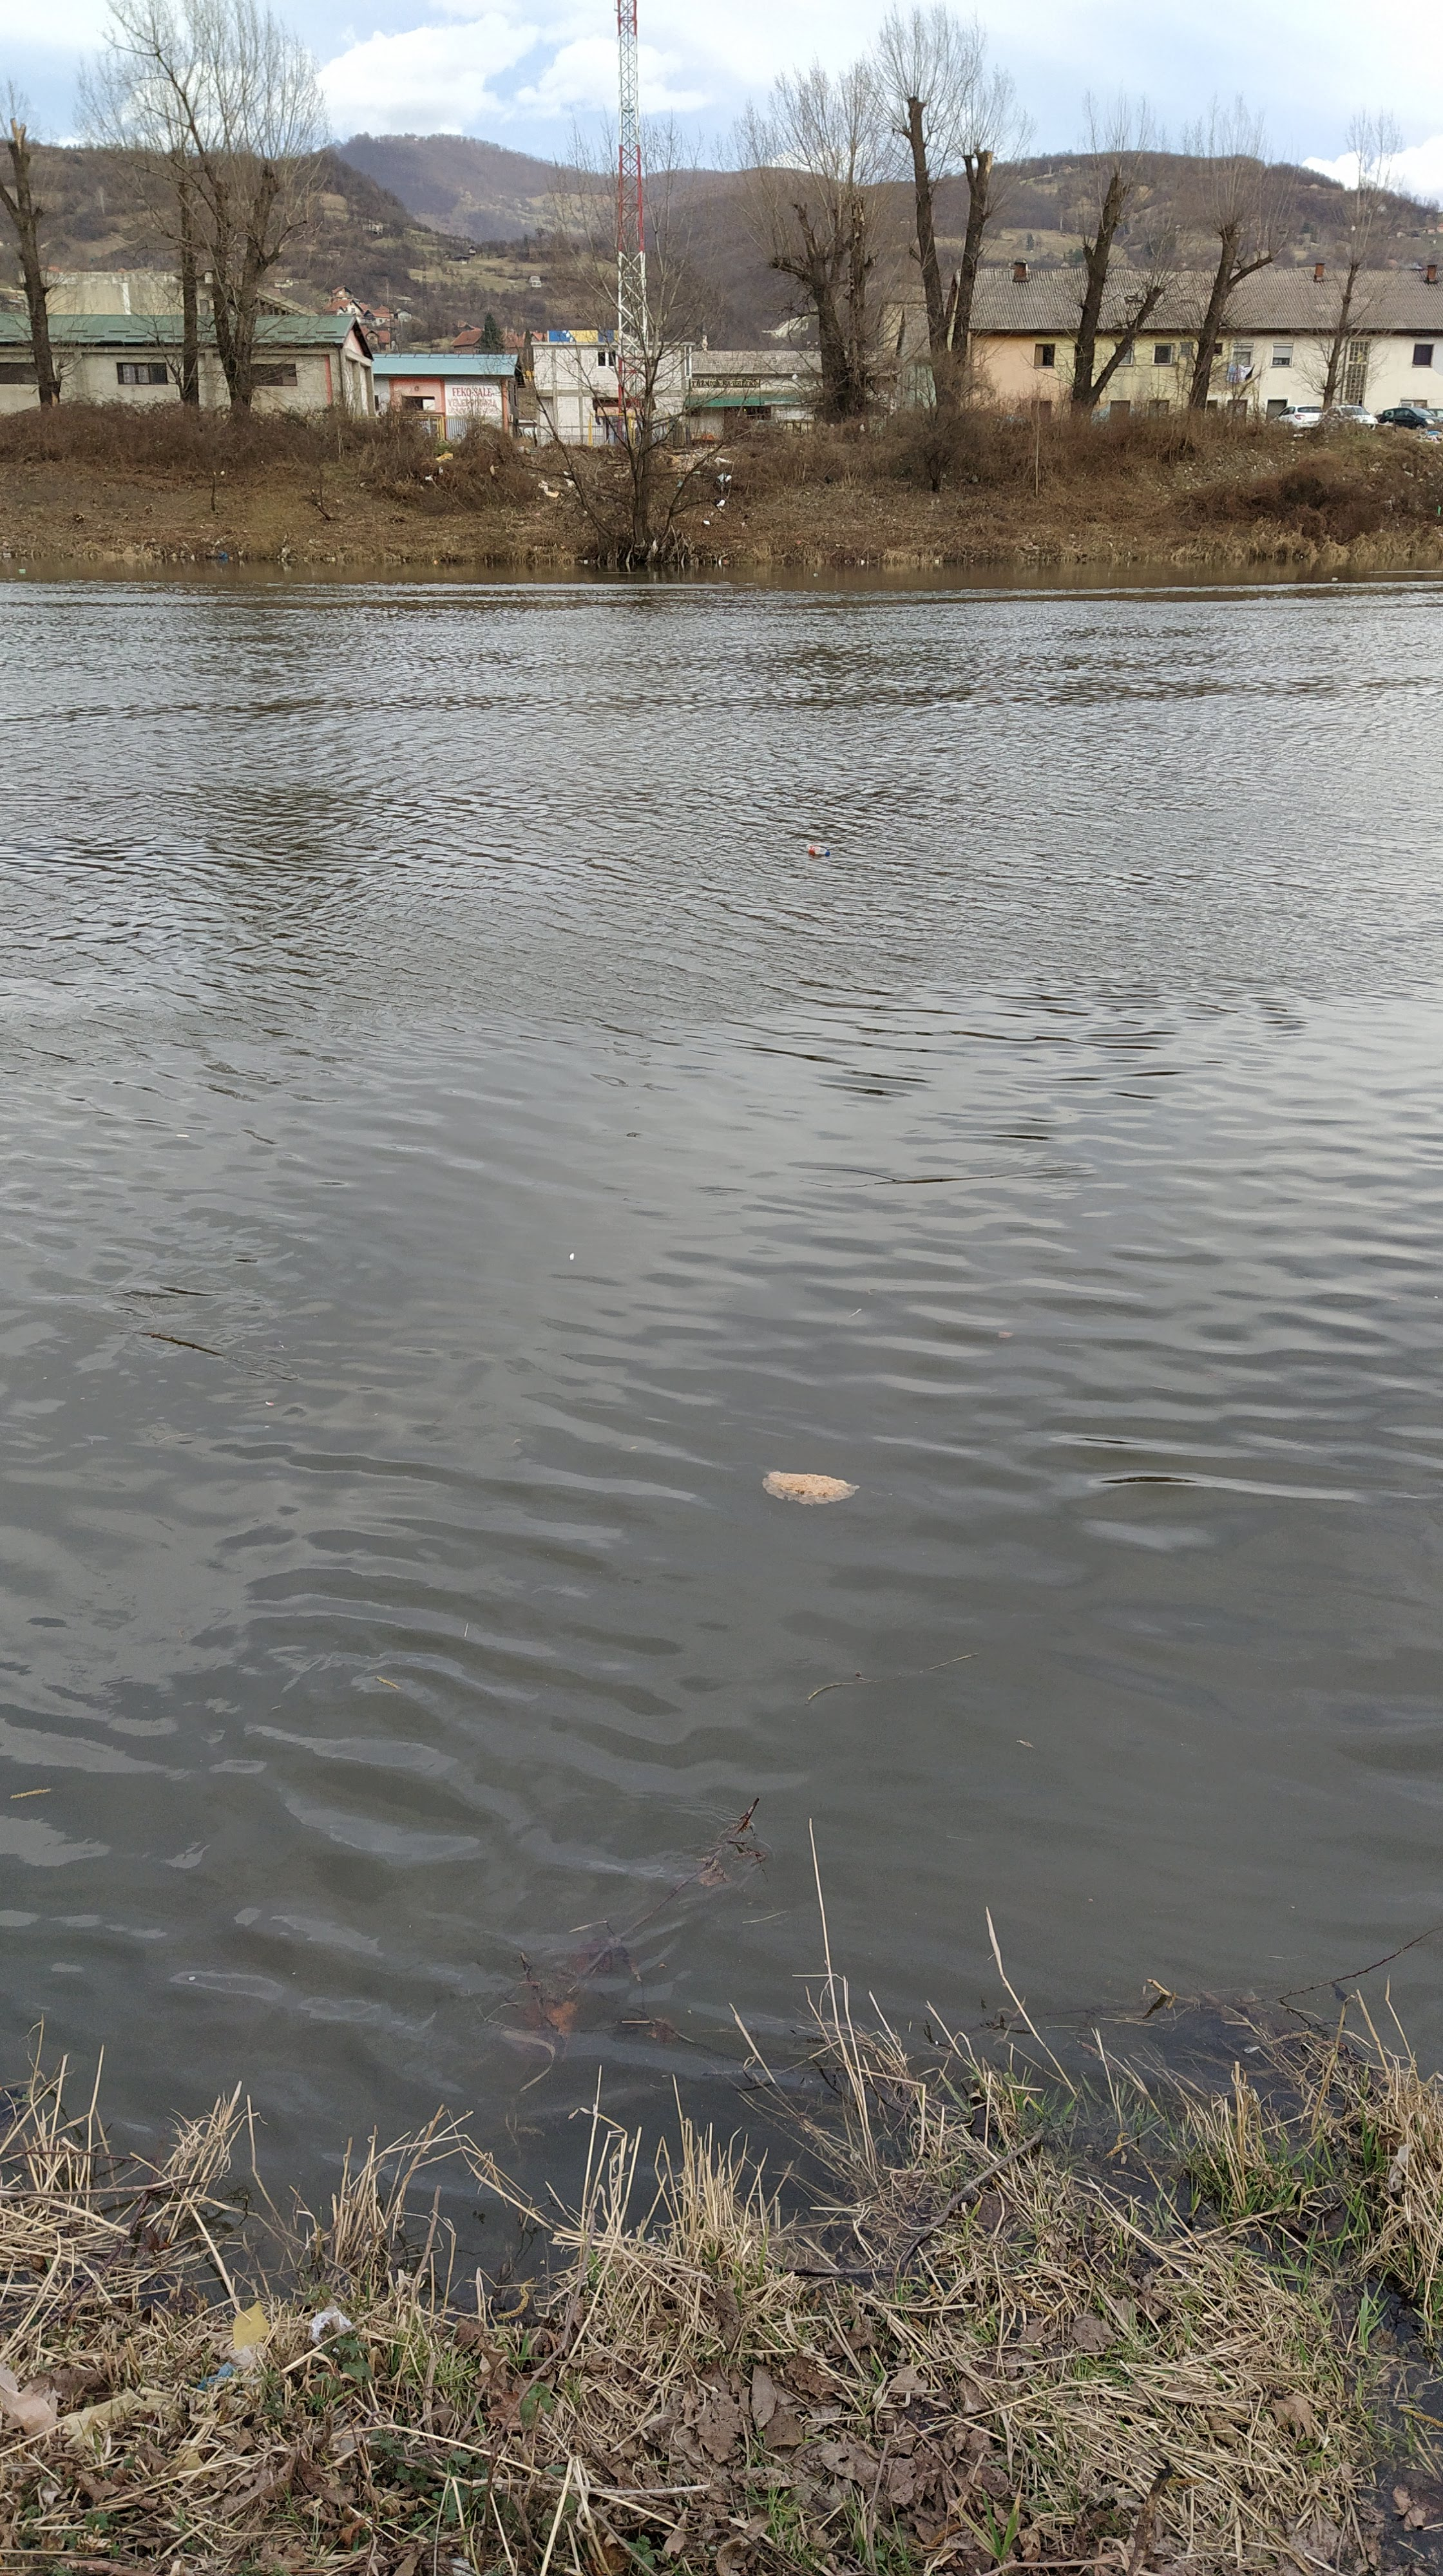Plastic Bottle: (806, 844, 830, 856), (19, 568, 25, 573)
